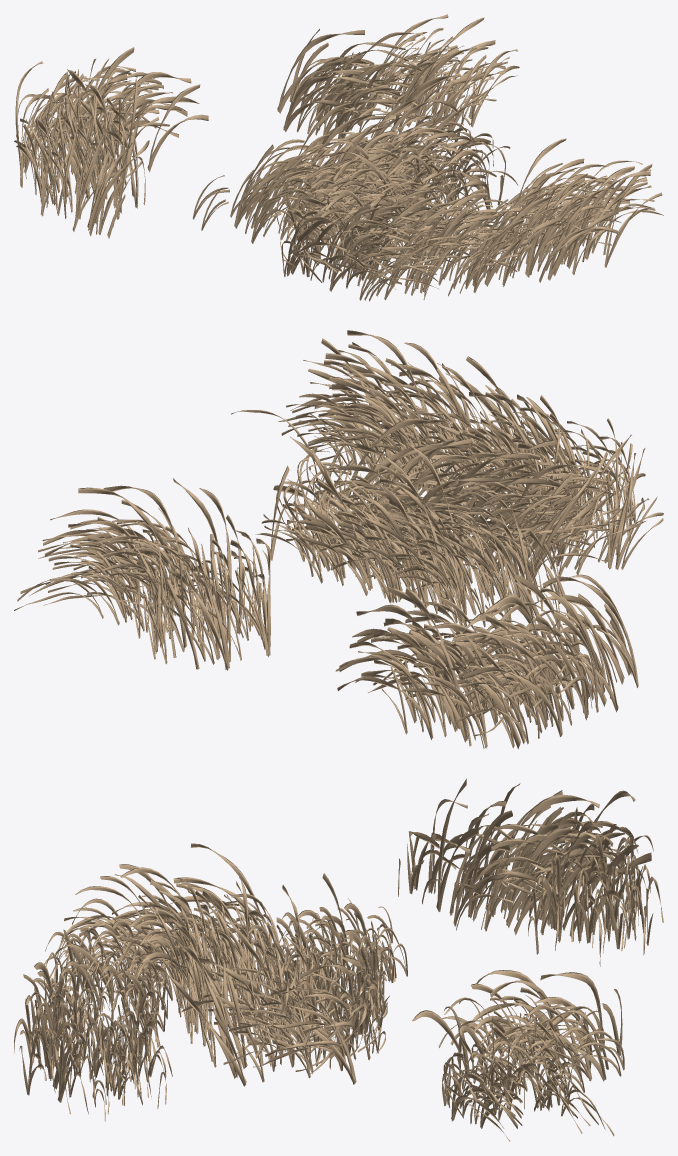
File: Grass1.fbx
3 views of the same model, one above another, from view 1: azimuth 30°, elevation 25°; view 2: azimuth 150°, elevation 25°; view 3: azimuth 270°, elevation 25° (orthographic). The views are drawn at different scales.
Visible parts, largest first — view 1: grassDryBlowing1Main; view 2: grassDryBlowing1Main; view 3: grassDryBlowing1Main.
Boxes of the visible parts, box(x1,y1,x2,y2) form: grassDryBlowing1Main: box(14, 14, 663, 301); grassDryBlowing1Main: box(14, 330, 663, 749); grassDryBlowing1Main: box(14, 779, 663, 1141).
Bounding box in the file's own units: 25.1 × 6.32 × 24.39.
